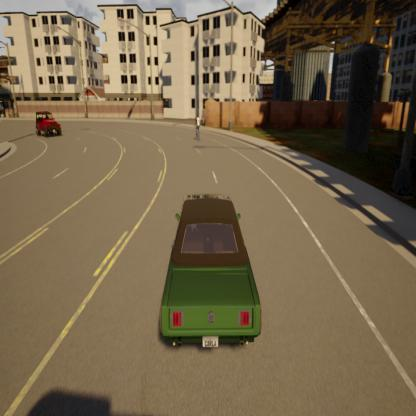Cars: (143, 182, 268, 359), (26, 101, 68, 145)
